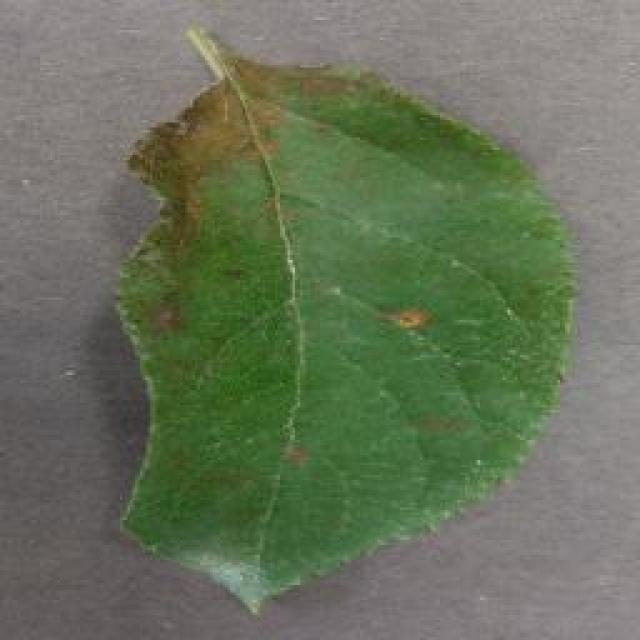apple rust disease: (110, 23, 580, 615)
